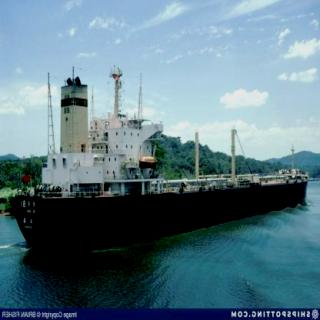Bulk Carrier: (9, 49, 306, 242)
